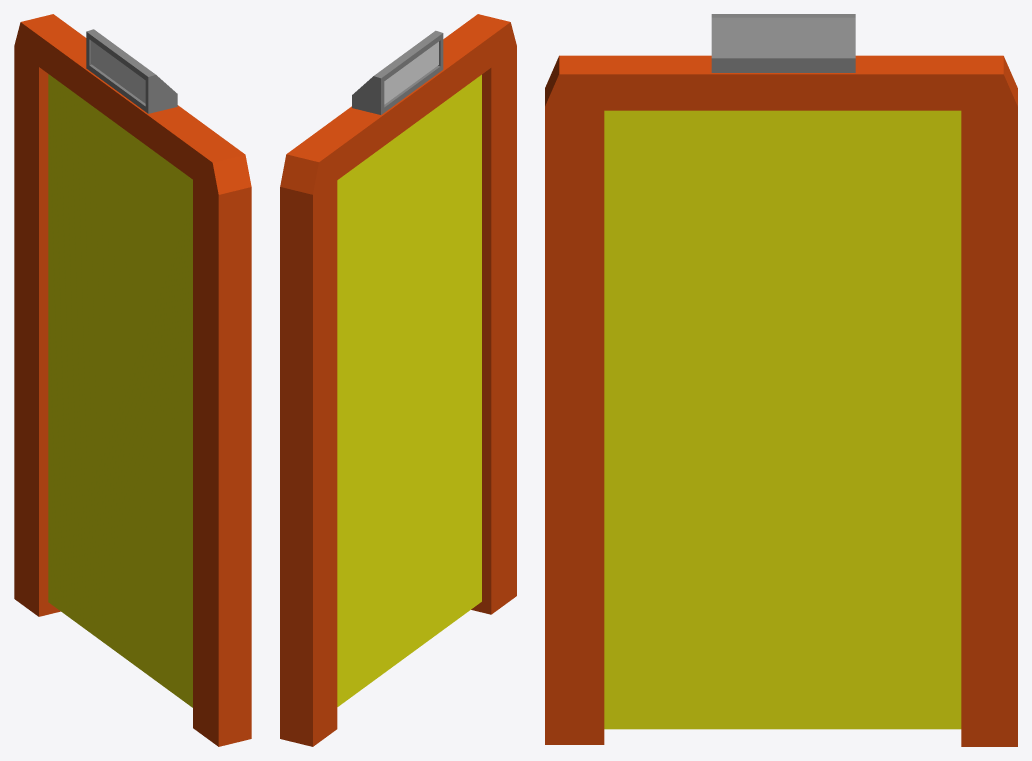
The model's file is DoorUp.fbx.
3 renders of one model, left to right at view 1: azimuth 30°, elevation 25°; view 2: azimuth 150°, elevation 25°; view 3: azimuth 270°, elevation 25°, orthographic. The views are drawn at different scales.
Visible parts, largest first — view 1: Cube.005, Cube.006, Cube.007, Cube.008; view 2: Cube.005, Cube.006, Cube.007, Cube.008; view 3: Cube.005, Cube.006, Cube.007.
Part boxes in pixels (<box>): Cube.005: <box>48,74,192,707</box>; Cube.006: <box>14,14,251,746</box>; Cube.007: <box>86,29,177,113</box>; Cube.008: <box>91,40,145,103</box>; Cube.005: <box>337,74,481,706</box>; Cube.006: <box>280,14,516,746</box>; Cube.007: <box>352,30,443,114</box>; Cube.008: <box>384,41,438,104</box>; Cube.005: <box>604,110,961,729</box>; Cube.006: <box>545,55,1017,746</box>; Cube.007: <box>711,14,855,72</box>.
Bounding box in the file's own units: 19.23 × 346 × 207.
